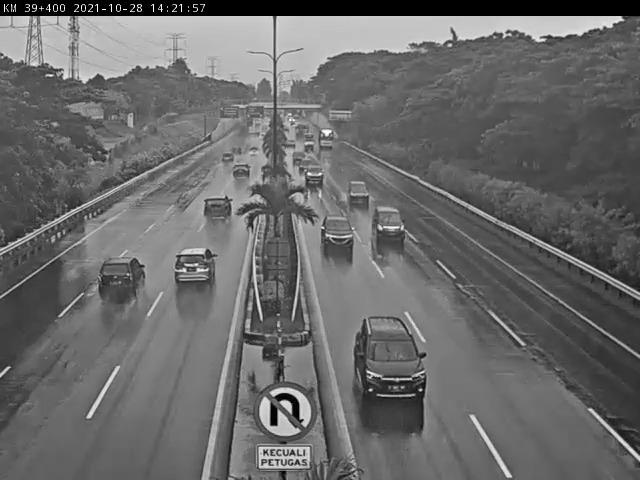car: (353, 317, 428, 401), (96, 256, 147, 300), (173, 248, 217, 286), (371, 205, 407, 247), (319, 213, 356, 252), (203, 194, 233, 222), (346, 180, 371, 204), (303, 162, 327, 185), (229, 165, 249, 183), (220, 150, 237, 165), (292, 147, 306, 164)
